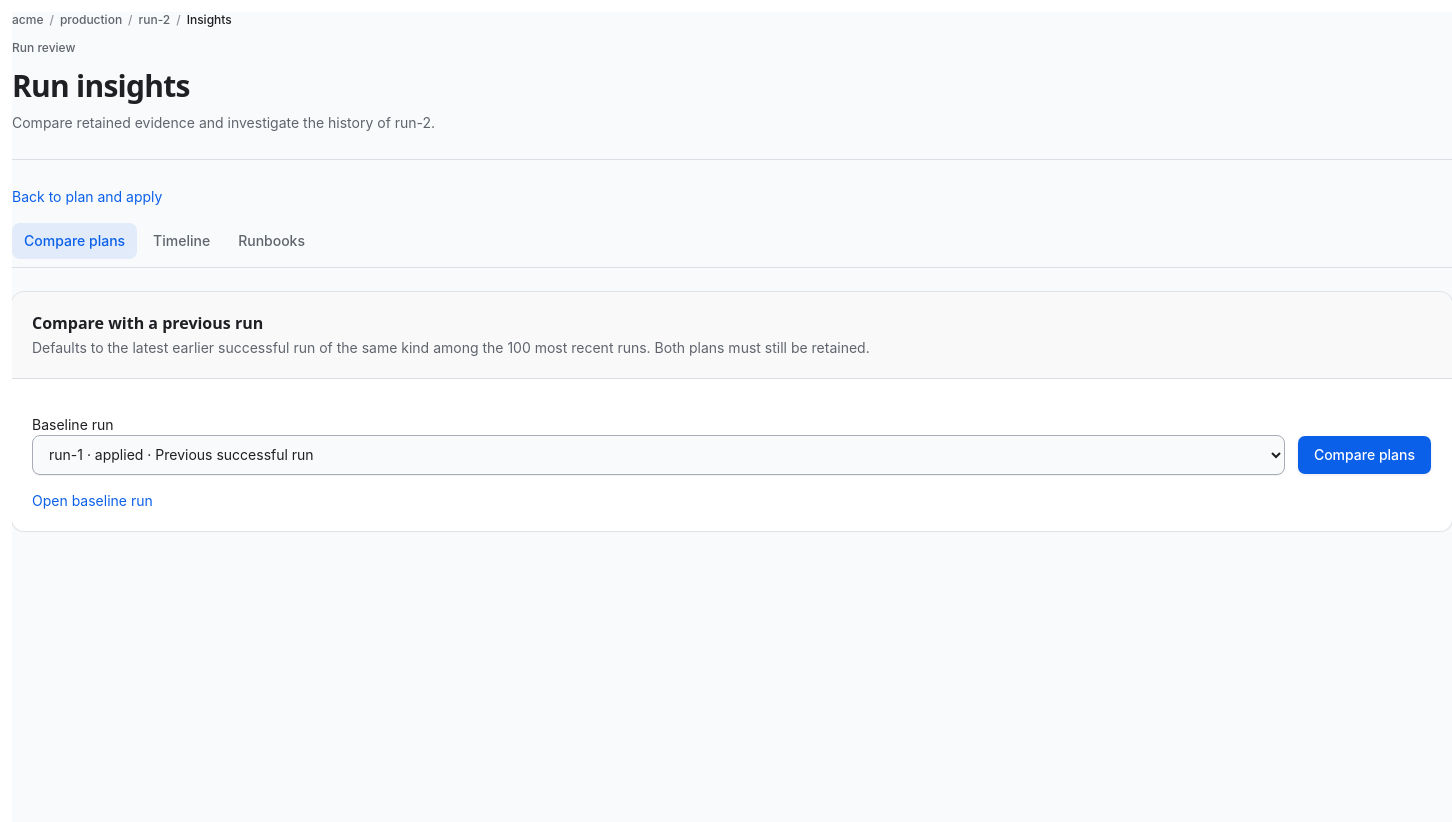
Scenario: run insights defaults to the latest earlier successful run and posts an explicit plan comparison
The image size is (1452, 822).
Expected: the heading "Run insights" is shown, [12,65,190,106]
Expected: the text "Compare with a previous run" is shown, [32,312,263,334]
Click the button "Compare plans".
click(1364, 455)  # box [1297,435,1432,475]
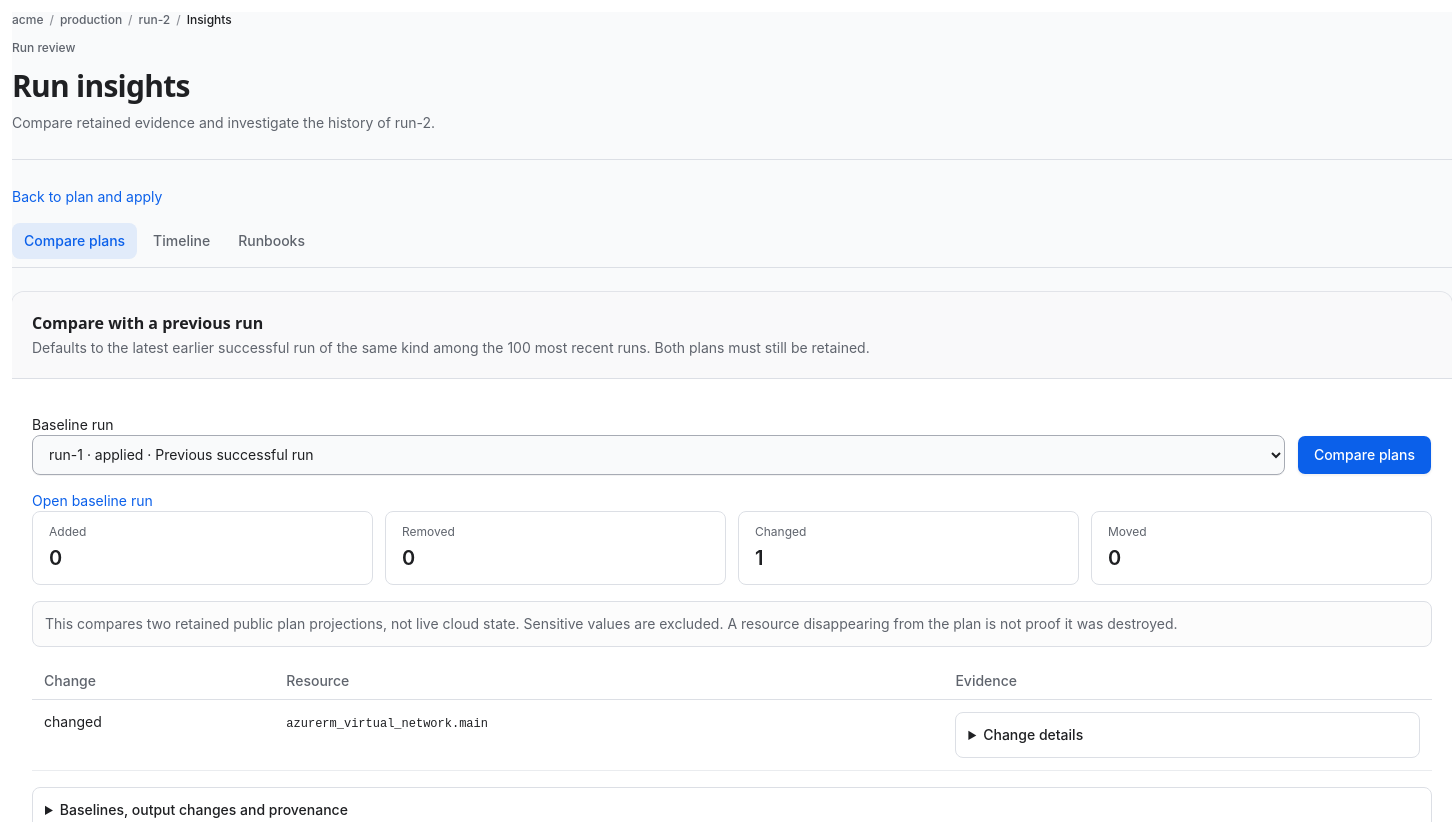
Expected: the text "azurerm_virtual_network.main" is shown, [286,717,488,731]
Expected: the text "retained public plan projections, not live cloud state" is shown, [45,615,1178,632]
